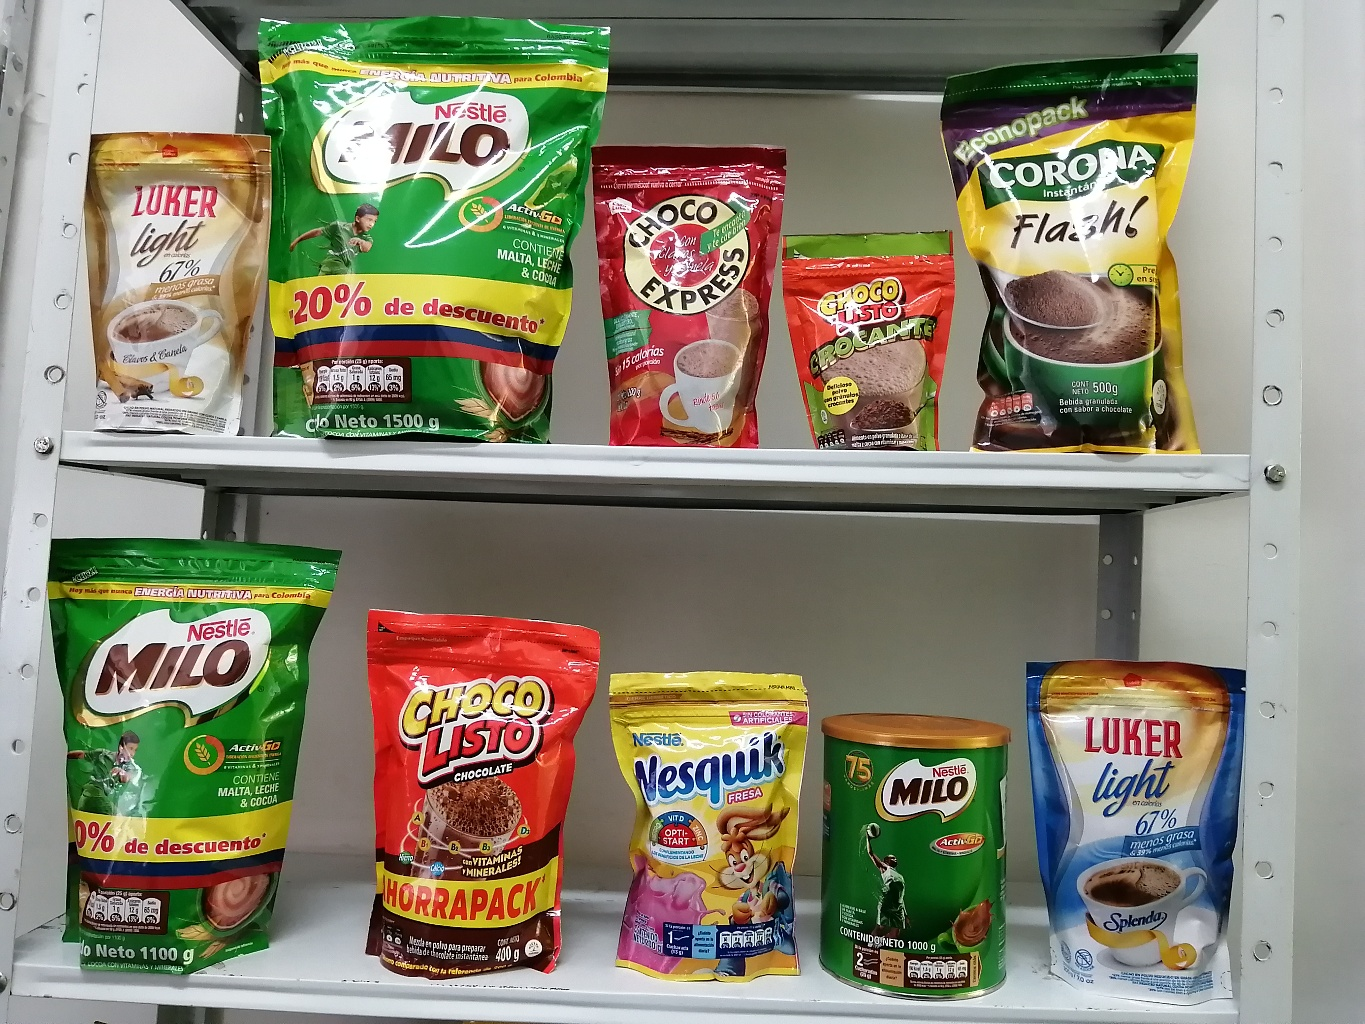COL0170102DYP10000: (781, 227, 956, 445)
COL0170103DYP40000: (349, 599, 606, 983)
COL0170305DYP20000: (614, 653, 811, 989)
